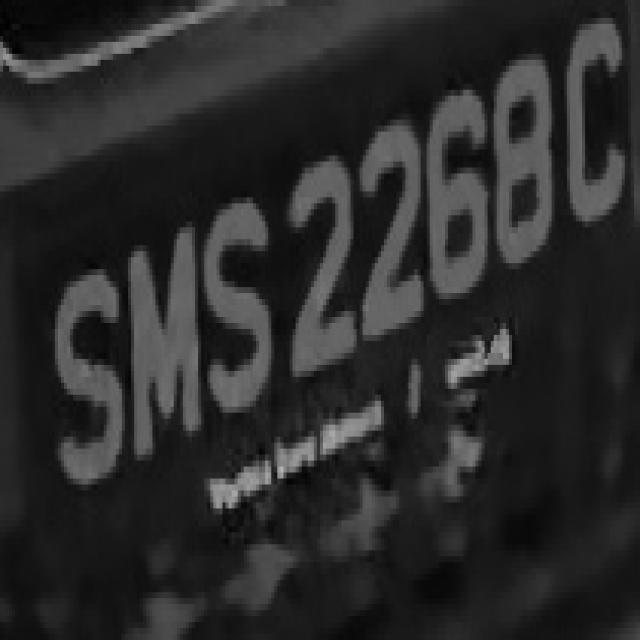2: (351, 108, 426, 382), (280, 149, 363, 389)
6: (424, 60, 496, 335)
8: (488, 36, 558, 299)
C: (552, 18, 628, 239)
M: (125, 198, 204, 460)
S: (195, 180, 277, 448), (52, 245, 128, 502)
